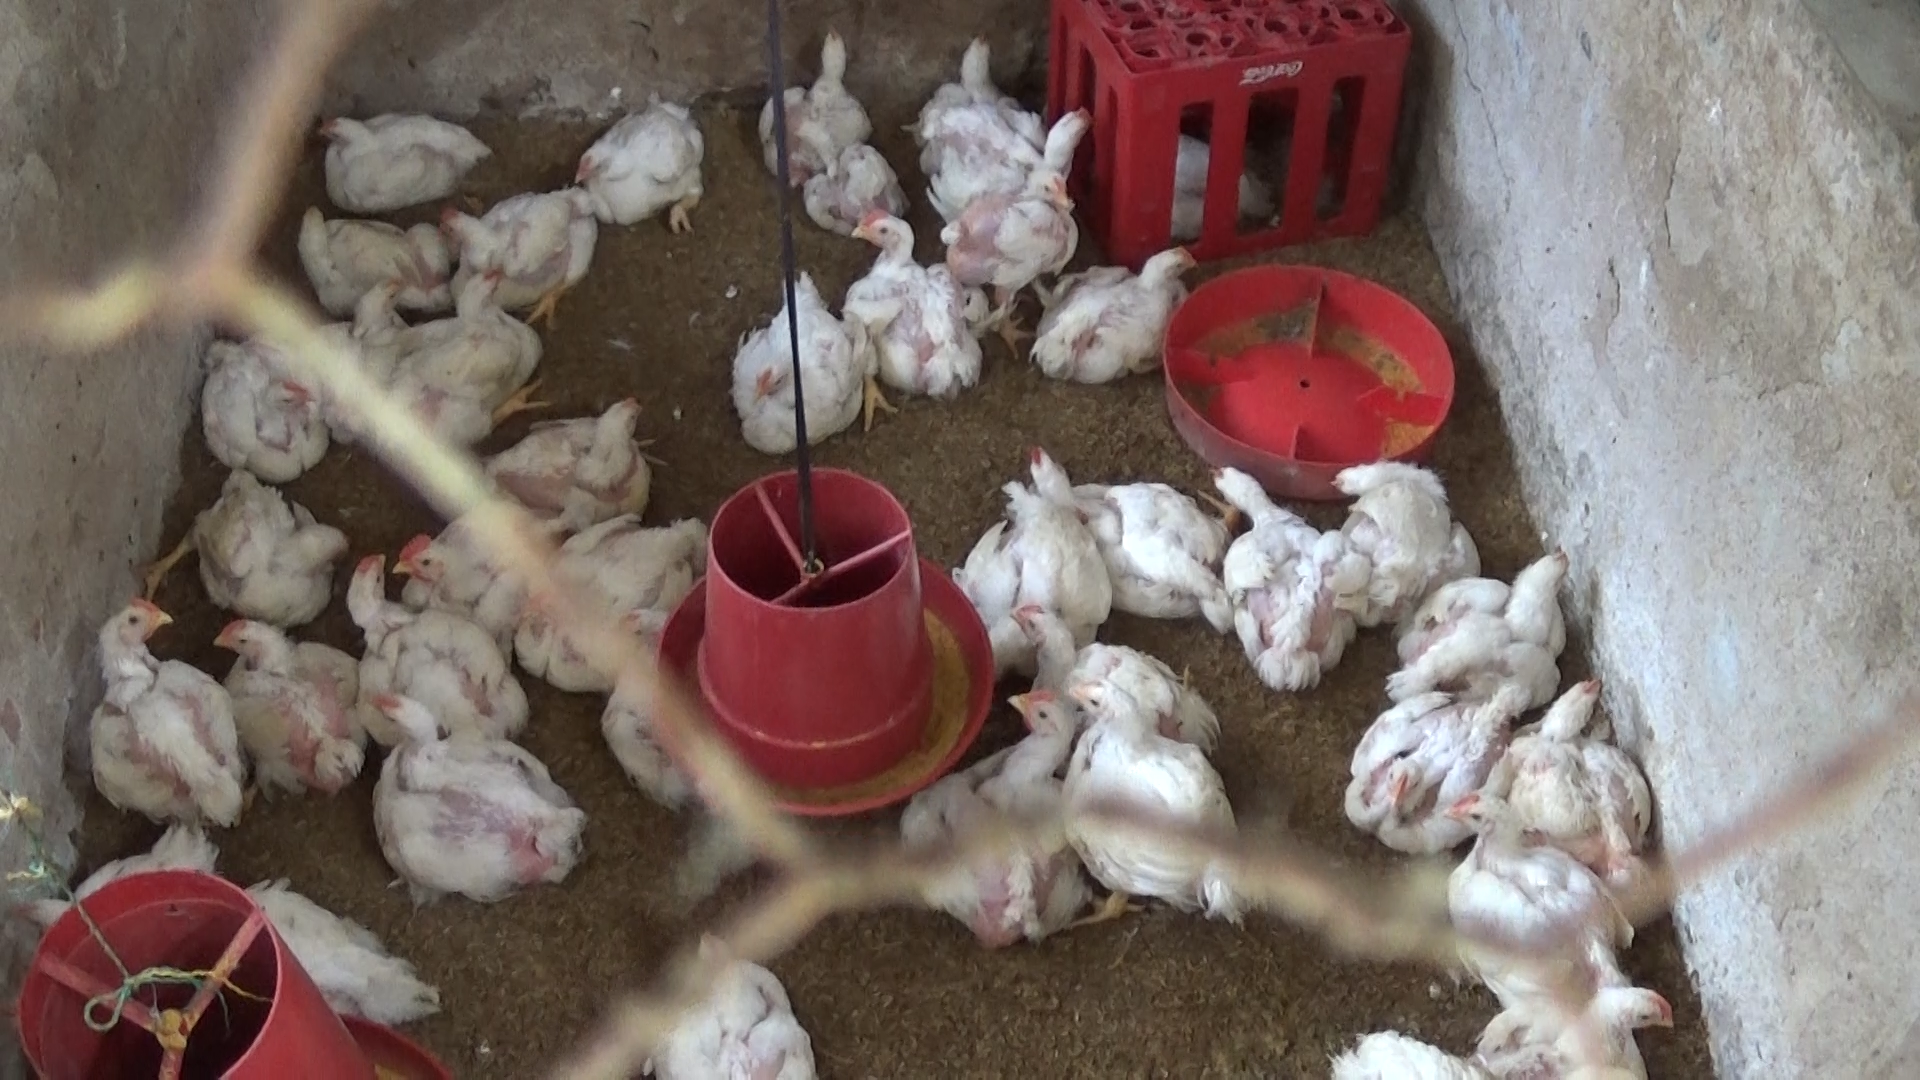Pollos: (353, 678, 600, 902), (1058, 669, 1259, 938), (82, 585, 251, 828), (1025, 425, 1250, 603), (1440, 794, 1640, 993), (336, 545, 520, 757), (931, 96, 1096, 324), (125, 462, 345, 624), (1205, 458, 1366, 676), (1327, 688, 1534, 857), (202, 612, 381, 791), (992, 680, 1121, 920), (1391, 542, 1600, 688), (372, 258, 551, 427), (646, 911, 820, 1080), (851, 196, 985, 411), (1360, 997, 1701, 1080), (392, 477, 578, 628), (1313, 444, 1474, 612), (716, 268, 861, 448), (1484, 665, 1646, 823), (293, 103, 501, 214), (1025, 251, 1207, 377), (972, 479, 1098, 659), (195, 323, 336, 473), (571, 88, 716, 229), (272, 200, 448, 309), (431, 182, 593, 298), (922, 18, 1042, 166), (761, 28, 877, 179), (811, 132, 911, 225)
